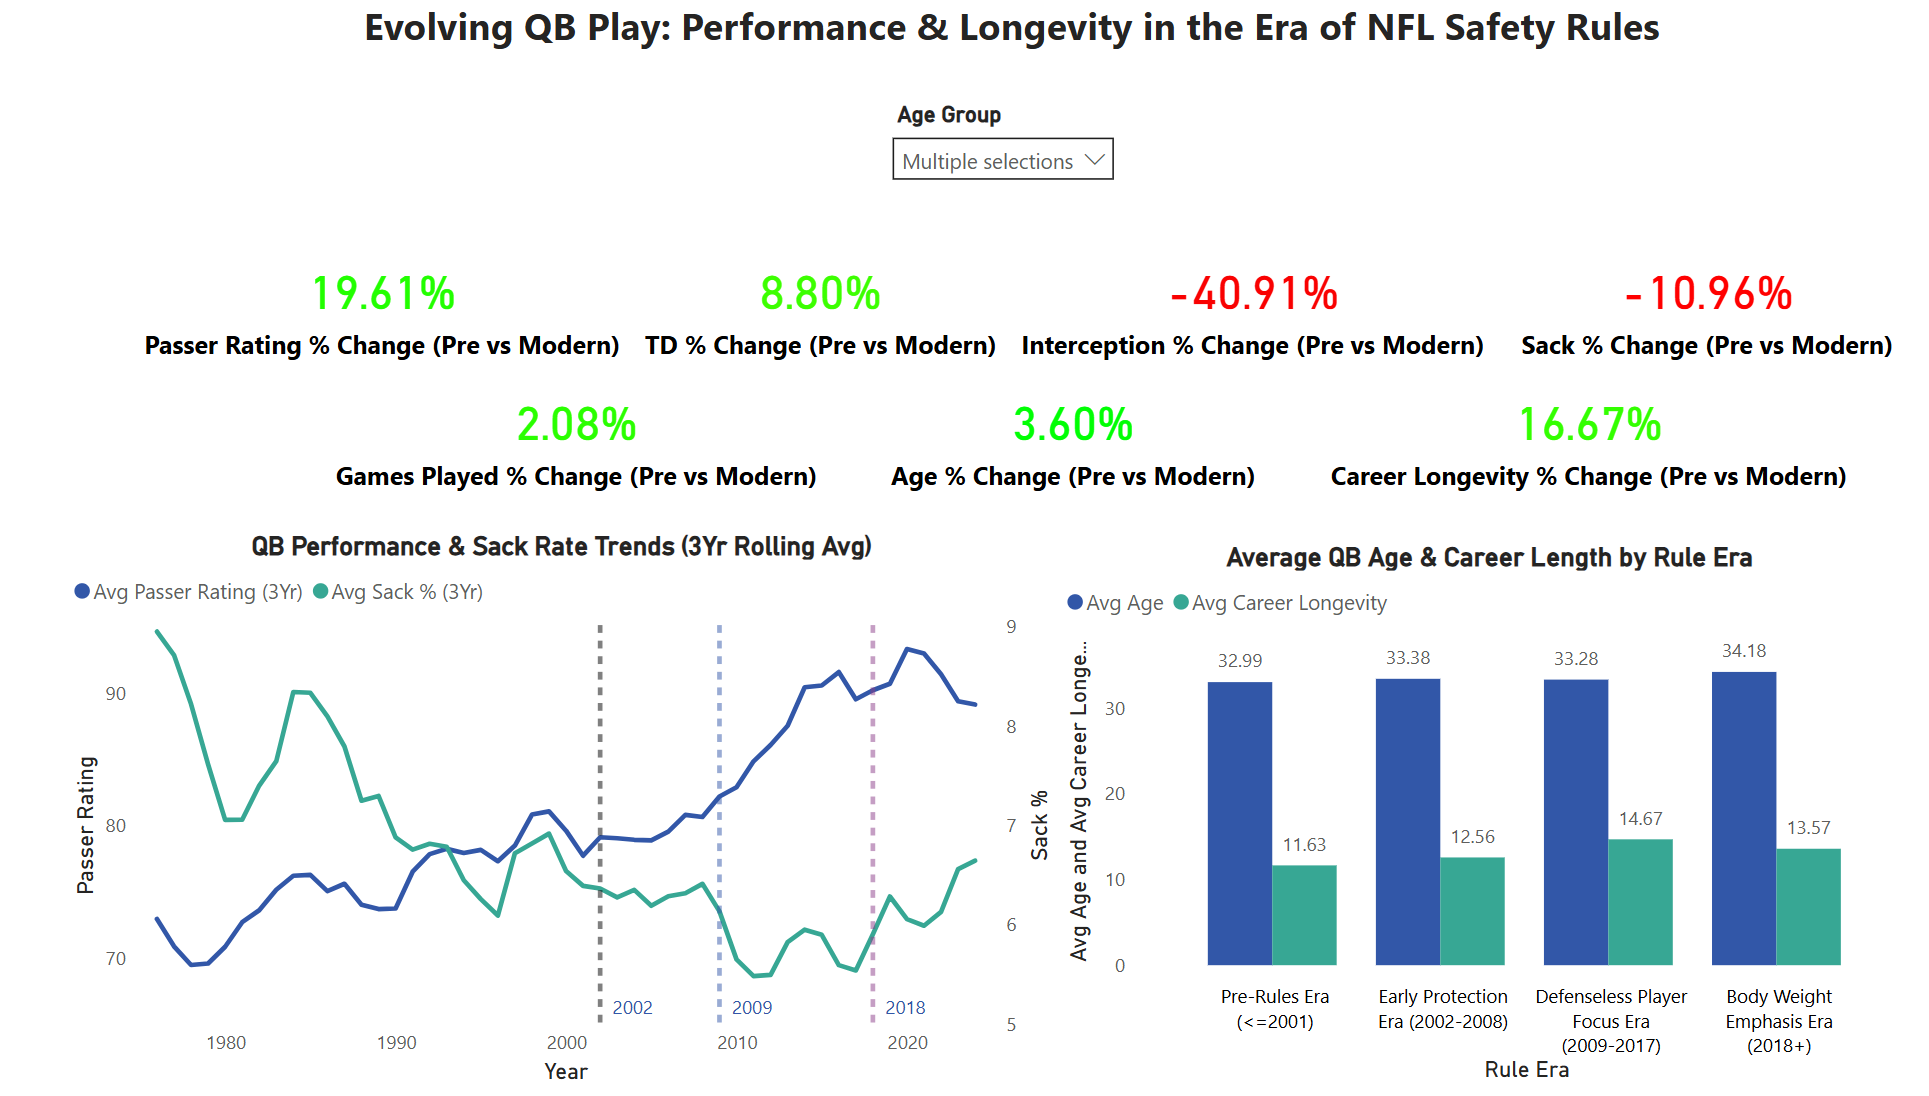

Layout of this report page (visuals, bound fields, positions):
{"tool":"powerbi","page":{"name":"Overview Summary","canvas":[1280,720],"ordinal":0},"visuals":[{"type":"textbox","box":[0,0,1280,50.7],"z":0},{"type":"card","fields":{"Values":["pass_cleaned.Passer Rating % Change (Pre vs Modern)"]},"box":[126.4,159.9,316,83.4],"z":1000},{"type":"card","fields":{"Values":["pass_cleaned.Sack % Change (Pre vs Modern)"]},"box":[997.1,159.8,275.2,83.4],"z":2000},{"type":"card","fields":{"Values":["pass_cleaned.Interception % Change (Pre vs Modern)"]},"box":[688.4,159.8,308.6,83.4],"z":3000},{"type":"card","fields":{"Values":["pass_cleaned.Age % Change (Pre vs Modern)"]},"box":[577.1,243.4,302.1,84.1],"z":4000},{"type":"card","fields":{"Values":["pass_cleaned.Games Played % Change (Pre vs Modern)"]},"box":[245.9,243.4,326.8,84.1],"z":5000},{"type":"card","fields":{"Values":["pass_cleaned.TD % Change (Pre vs Modern)"]},"box":[442.7,159.8,245.7,83.4],"z":6000},{"type":"lineChart","title":"QB Performance & Sack Rate Trends (3Yr Rolling Avg)","fields":{"Category":["pass_cleaned.Year"],"Y":["pass_cleaned.Rolling 3yr Avg Passer Rating"],"Y2":["pass_cleaned.Rolling 3yr Avg Sack %"]},"box":[80.6,345.1,637,360.3],"z":7000},{"type":"clusteredColumnChart","title":"Average QB Age & Career Length by Rule Era","fields":{"Category":["pass_cleaned.Rule_Era"],"Y":["pass_cleaned.Avg Age","pass_cleaned.Avg Career Longevity"]},"box":[718.1,352.5,554,352.5],"z":8000},{"type":"card","fields":{"Values":["pass_cleaned.Career Longevity % Change (Pre vs Modern)"]},"box":[879.2,243.4,359.7,84.1],"z":9000},{"type":"slicer","fields":{"Values":["pass_cleaned.Age_Group"]},"box":[601.8,65.4,162.3,75.7],"z":10000}]}

Visuals, with their boxes in screenshot pixels (x1, y1, x2, y2), scaled from the page's 1280x720 canvas onto the 1929x1096 screenshot:
textbox: x1=0 y1=0 x2=1928 y2=77
card - pass_cleaned.Passer Rating % Change (Pre vs Modern): x1=190 y1=243 x2=667 y2=370
card - pass_cleaned.Sack % Change (Pre vs Modern): x1=1503 y1=243 x2=1917 y2=370
card - pass_cleaned.Interception % Change (Pre vs Modern): x1=1037 y1=243 x2=1503 y2=370
card - pass_cleaned.Age % Change (Pre vs Modern): x1=870 y1=371 x2=1325 y2=499
card - pass_cleaned.Games Played % Change (Pre vs Modern): x1=371 y1=371 x2=863 y2=499
card - pass_cleaned.TD % Change (Pre vs Modern): x1=667 y1=243 x2=1037 y2=370
"QB Performance & Sack Rate Trends (3Yr Rolling Avg)" lineChart: x1=121 y1=525 x2=1081 y2=1074
"Average QB Age & Career Length by Rule Era" clusteredColumnChart: x1=1082 y1=537 x2=1917 y2=1073
card - pass_cleaned.Career Longevity % Change (Pre vs Modern): x1=1325 y1=371 x2=1867 y2=499
slicer - pass_cleaned.Age_Group: x1=907 y1=100 x2=1152 y2=215
